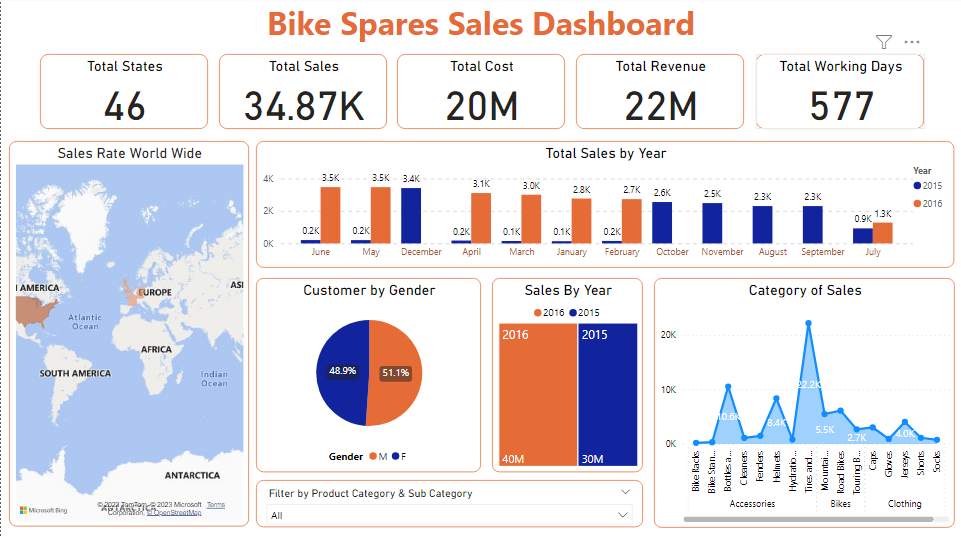

The dashboard page shown, as its layout file describes it:
{"tool":"powerbi","page":{"name":"Bike Spares Sales Dashboard","canvas":[1280,720],"ordinal":0},"visuals":[{"type":"textbox","box":[0,0,1280,80.6],"z":0},{"type":"filledMap","title":"Sales Rate World Wide","fields":{"Category":["salesforcourse-4fe2kehu.Country"]},"box":[10,191.4,320,514.3],"z":1000},{"type":"clusteredColumnChart","title":"Total Sales by Year","fields":{"Category":["salesforcourse-4fe2kehu.Month"],"Y":["CountNonNull(salesforcourse-4fe2kehu.index)"],"Series":["salesforcourse-4fe2kehu.Year"]},"box":[340,191.4,931.4,168.6],"z":2000},{"type":"pieChart","title":"Customer by Gender","fields":{"Category":["salesforcourse-4fe2kehu.Customer Gender"],"Y":["CountNonNull(salesforcourse-4fe2kehu.Customer Gender)"]},"box":[340,374.3,300,258.6],"z":3000},{"type":"treemap","title":"Sales By Year","fields":{"Group":["salesforcourse-4fe2kehu.Year"],"Values":["Sum(salesforcourse-4fe2kehu.Year)"]},"box":[654.3,374.3,201.4,258.6],"z":4000},{"type":"stackedAreaChart","title":"Category of Sales","fields":{"Category":["salesforcourse-4fe2kehu.Product Category","salesforcourse-4fe2kehu.Sub Category"],"Y":["Sum(salesforcourse-4fe2kehu.Quantity)"]},"box":[870,374.3,401.4,332.9],"z":5000},{"type":"card","title":"Total Sales","fields":{"Values":["CountNonNull(salesforcourse-4fe2kehu.index)"]},"box":[290,75.7,224.3,100],"z":6000},{"type":"card","title":"Total Working Days","fields":{"Values":["Count(salesforcourse-4fe2kehu.Date)"]},"box":[1007.1,75.7,224.3,100],"z":7000},{"type":"card","title":"Total Revenue","fields":{"Values":["Sum(salesforcourse-4fe2kehu.Revenue)"]},"box":[767.1,75.7,224.3,100],"z":8000},{"type":"card","title":"Total Cost","fields":{"Values":["Sum(salesforcourse-4fe2kehu.Cost)"]},"box":[528.6,75.7,224.3,100],"z":9000},{"type":"card","title":"Total States","fields":{"Values":["Count(salesforcourse-4fe2kehu.State)"]},"box":[51.4,75.7,224.3,100],"z":10000},{"type":"slicer","fields":{"Values":["salesforcourse-4fe2kehu.Product Category","salesforcourse-4fe2kehu.Sub Category"]},"box":[340,644.3,515.7,62.9],"z":11000}]}

Visuals, with their boxes in screenshot pixels (x1, y1, x2, y2), scaled from the page's 1280x720 canvas onto the 961x537 screenshot:
textbox: 0,0,960,60
"Sales Rate World Wide" filledMap: 8,143,248,526
"Total Sales by Year" clusteredColumnChart: 255,143,955,268
"Customer by Gender" pieChart: 255,279,480,472
"Sales By Year" treemap: 491,279,642,472
"Category of Sales" stackedAreaChart: 653,279,955,527
"Total Sales" card: 218,56,386,131
"Total Working Days" card: 756,56,925,131
"Total Revenue" card: 576,56,744,131
"Total Cost" card: 397,56,565,131
"Total States" card: 39,56,207,131
slicer - salesforcourse-4fe2kehu.Product Category x salesforcourse-4fe2kehu.Sub Category: 255,481,642,527
